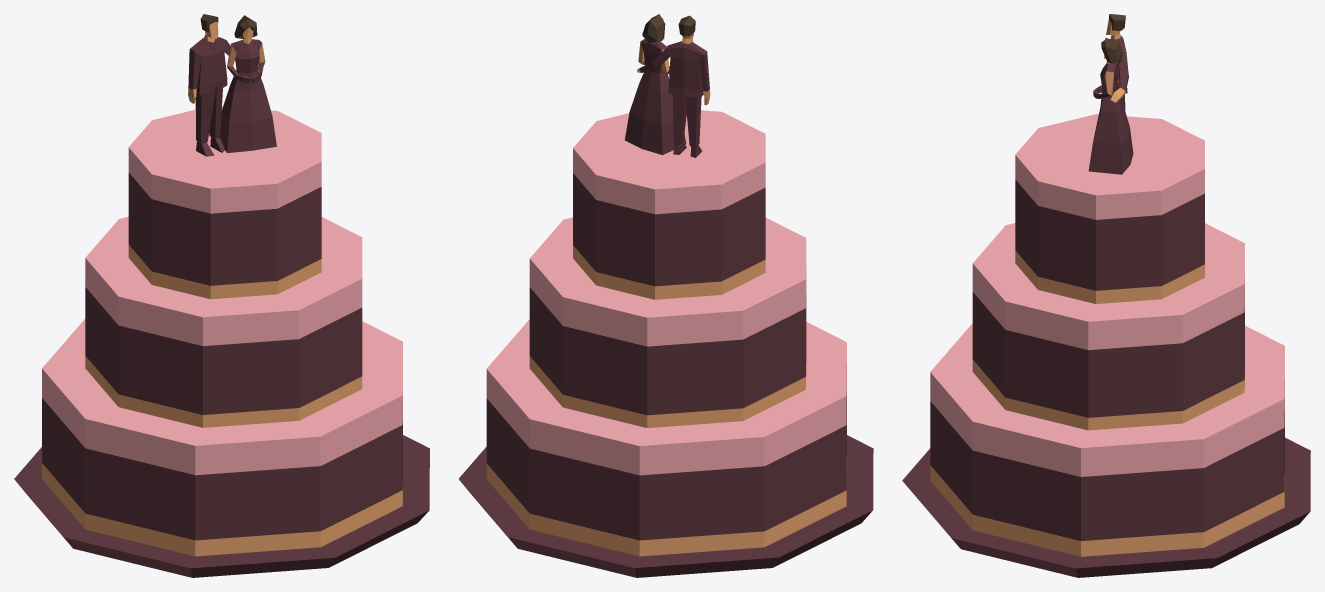
Rendered from cake-wedding.fbx.
3 views of the same model, side by side, from view 1: azimuth 30°, elevation 25°; view 2: azimuth 150°, elevation 25°; view 3: azimuth 270°, elevation 25° (orthographic).
Parts seen in each view (by area): view 1: cake-wedding; view 2: cake-wedding; view 3: cake-wedding.
Part boxes in pixels (x1,y1,x2,y2): cake-wedding: (14, 14, 429, 577); cake-wedding: (459, 14, 873, 577); cake-wedding: (902, 14, 1310, 577).
Bounding box in the file's own units: 0.6227 × 0.7844 × 0.6135.
